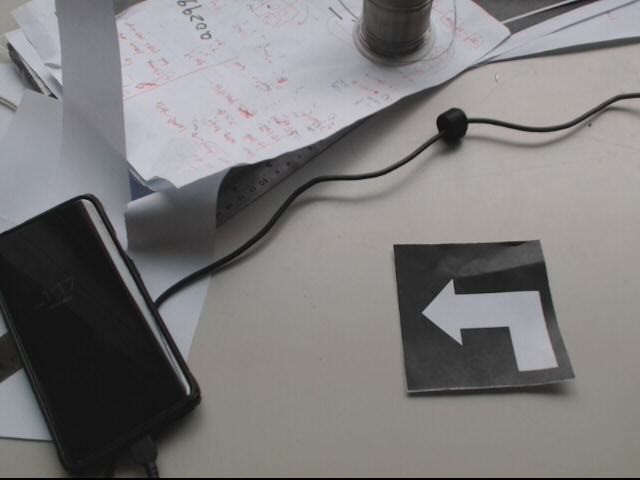left: (392, 240, 574, 395)
